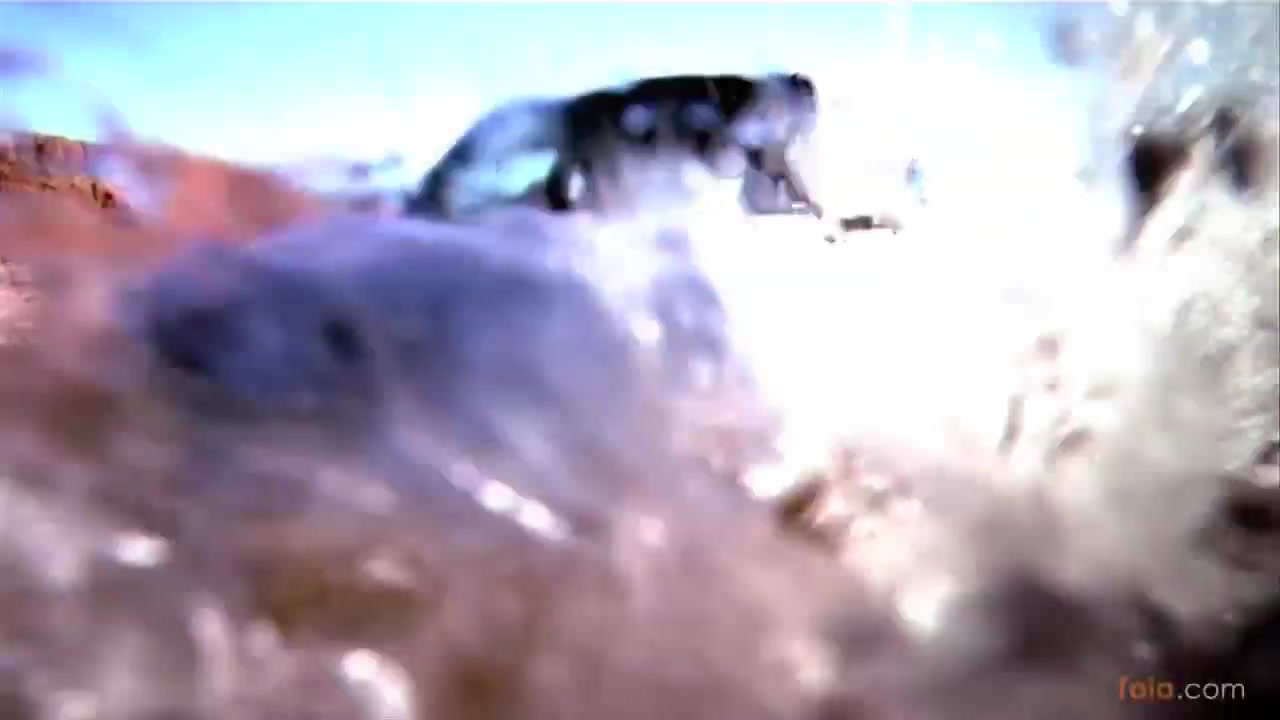car: (139, 45, 885, 474)
